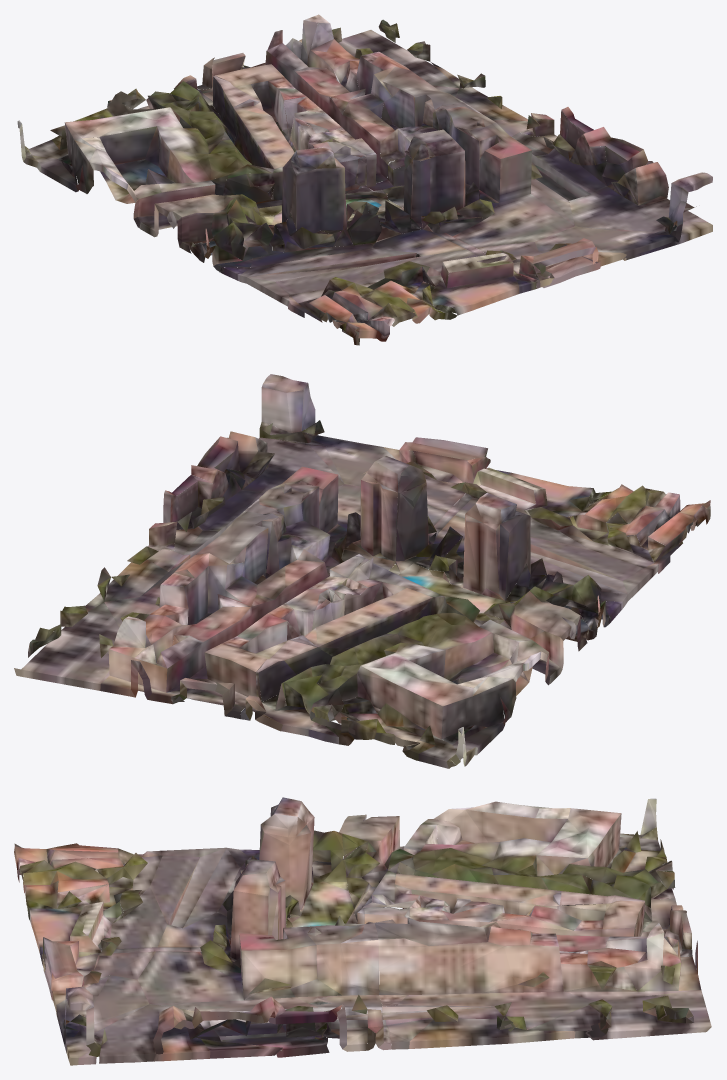
The picture shows the model from 3 angles, top to bottom: view 1: azimuth 30°, elevation 25°; view 2: azimuth 150°, elevation 25°; view 3: azimuth 270°, elevation 25°; orthographic projection. The views are drawn at different scales.
Parts seen in each view (by area): view 1: Mesh_0; view 2: Mesh_0; view 3: Mesh_0.
Part boxes in pixels (x1,y1,x2,y2): Mesh_0: [17, 14, 712, 345]; Mesh_0: [14, 374, 710, 768]; Mesh_0: [14, 797, 711, 1065].
Size of the model in its own units: 269 by 55.98 by 330.
2 materials, 2 textured.
